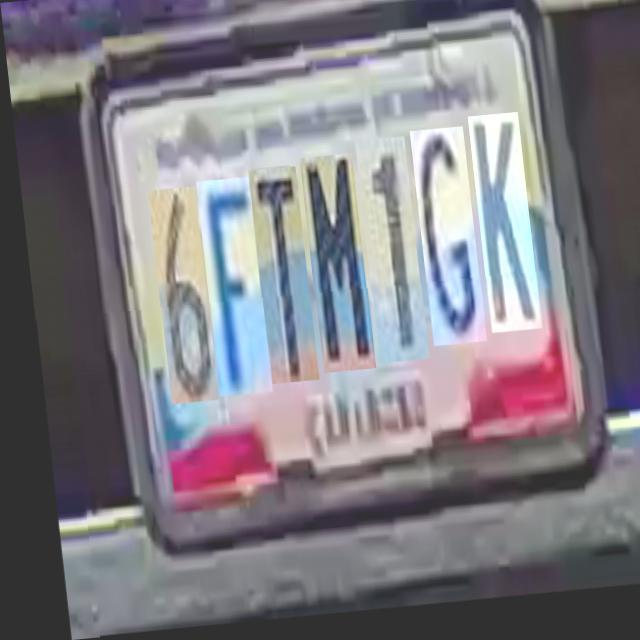1: (352, 144, 420, 370)
6: (143, 190, 210, 406)
F: (192, 182, 263, 400)
G: (406, 136, 478, 354)
K: (464, 122, 534, 342)
M: (296, 160, 367, 379)
T: (244, 172, 310, 389)
